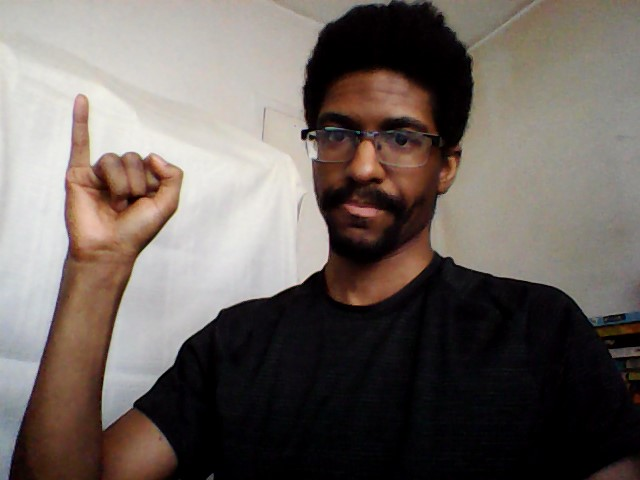i: (60, 90, 188, 275)
